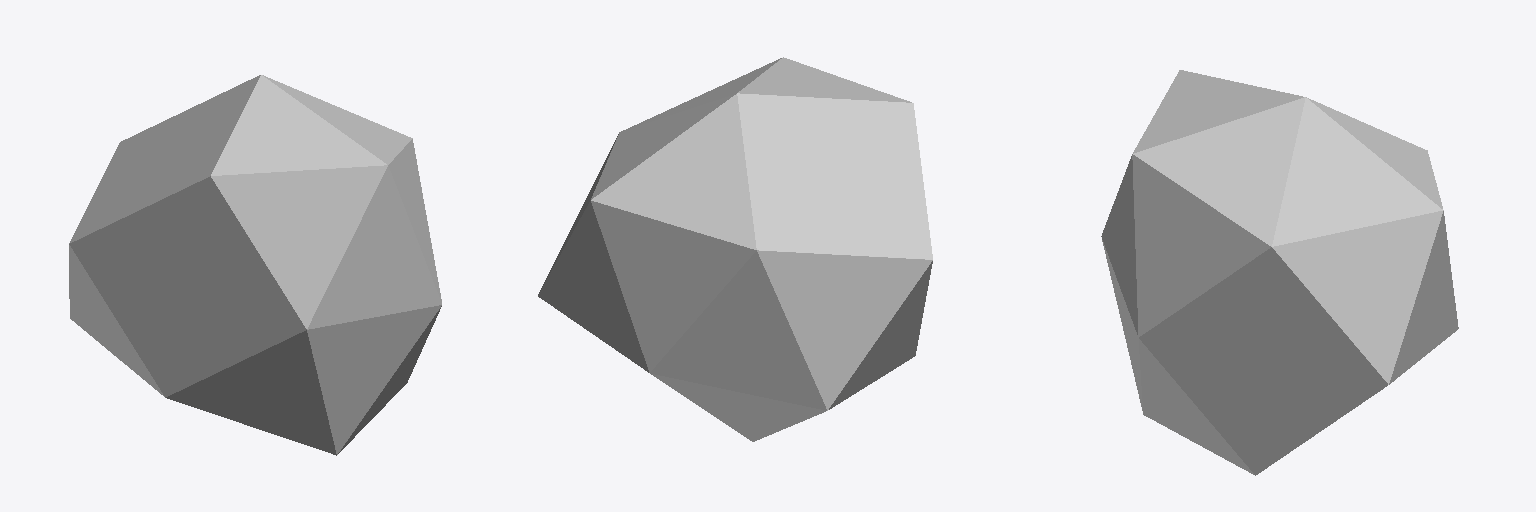
The model's file is DiSphenocingulum.obj.
3 renders of one model, left to right at view 1: azimuth 30°, elevation 25°; view 2: azimuth 150°, elevation 25°; view 3: azimuth 270°, elevation 25°, orthographic.
Parts seen in each view (by area): view 1: DiSphenocingulum; view 2: DiSphenocingulum; view 3: DiSphenocingulum.
Part boxes in pixels (bbox=[...]): DiSphenocingulum: bbox=[69, 75, 441, 455]; DiSphenocingulum: bbox=[538, 57, 932, 441]; DiSphenocingulum: bbox=[1101, 70, 1458, 475].
Bounding box in the file's own units: 1.65 × 1.51 × 1.45.